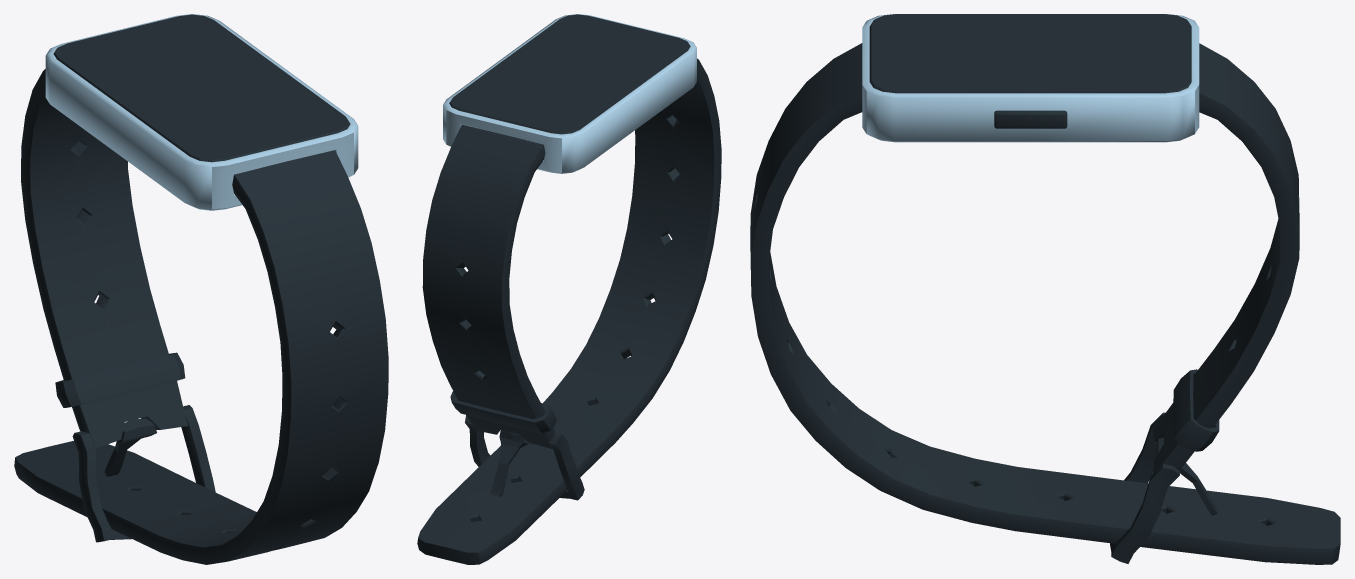
Rendered from band.glb.
3 views of the same model, side by side, from view 1: azimuth 30°, elevation 25°; view 2: azimuth 150°, elevation 25°; view 3: azimuth 270°, elevation 25° (orthographic). The views are drawn at different scales.
Parts seen in each view (by area): view 1: correaBand, screenBand, boxBand, hebillaBand; view 2: correaBand, screenBand, boxBand, hebillaBand; view 3: correaBand, screenBand, boxBand, hebillaBand, btnBand.
Boxes of the visible parts, x1=… form: correaBand: x1=14, y1=69, x2=388, y2=564; screenBand: x1=53, y1=14, x2=350, y2=162; boxBand: x1=45, y1=14, x2=358, y2=210; hebillaBand: x1=72, y1=405, x2=215, y2=542; correaBand: x1=417, y1=58, x2=721, y2=564; screenBand: x1=449, y1=14, x2=690, y2=134; boxBand: x1=443, y1=14, x2=696, y2=173; hebillaBand: x1=465, y1=415, x2=584, y2=500; correaBand: x1=750, y1=43, x2=1340, y2=564; screenBand: x1=869, y1=14, x2=1191, y2=93; boxBand: x1=862, y1=14, x2=1199, y2=142; hebillaBand: x1=1110, y1=412, x2=1217, y2=563; btnBand: x1=994, y1=110, x2=1067, y2=128.
Bounding box in the file's own units: 0.1824 × 0.4868 × 0.5265.
